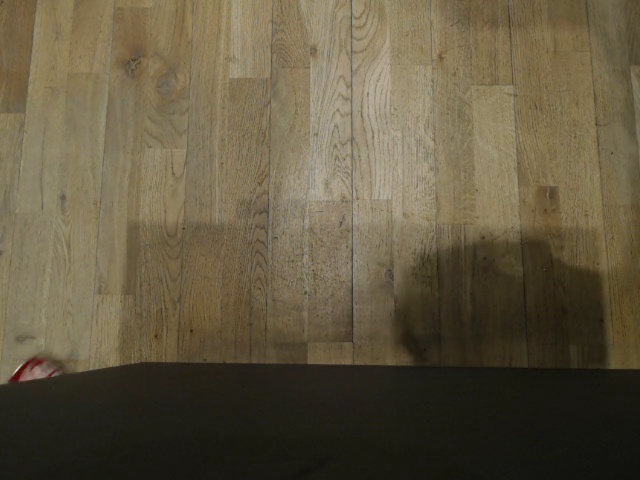cola: (4, 355, 70, 380)
